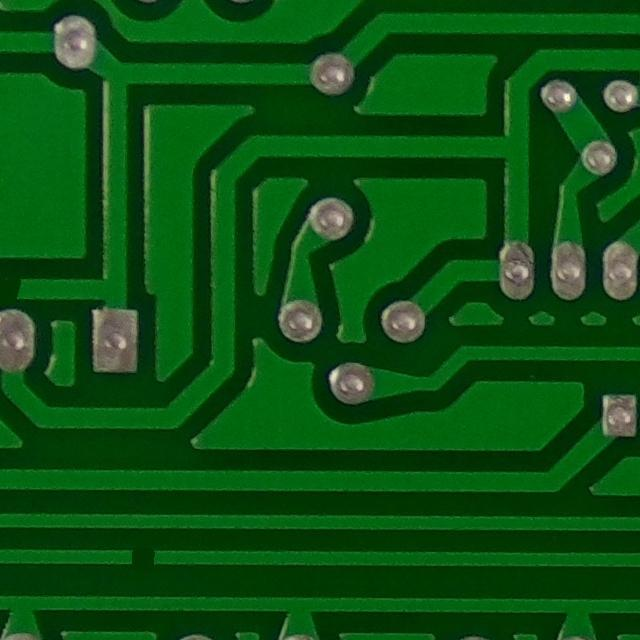open_circuit: (121, 535, 164, 581), (0, 267, 34, 311)
